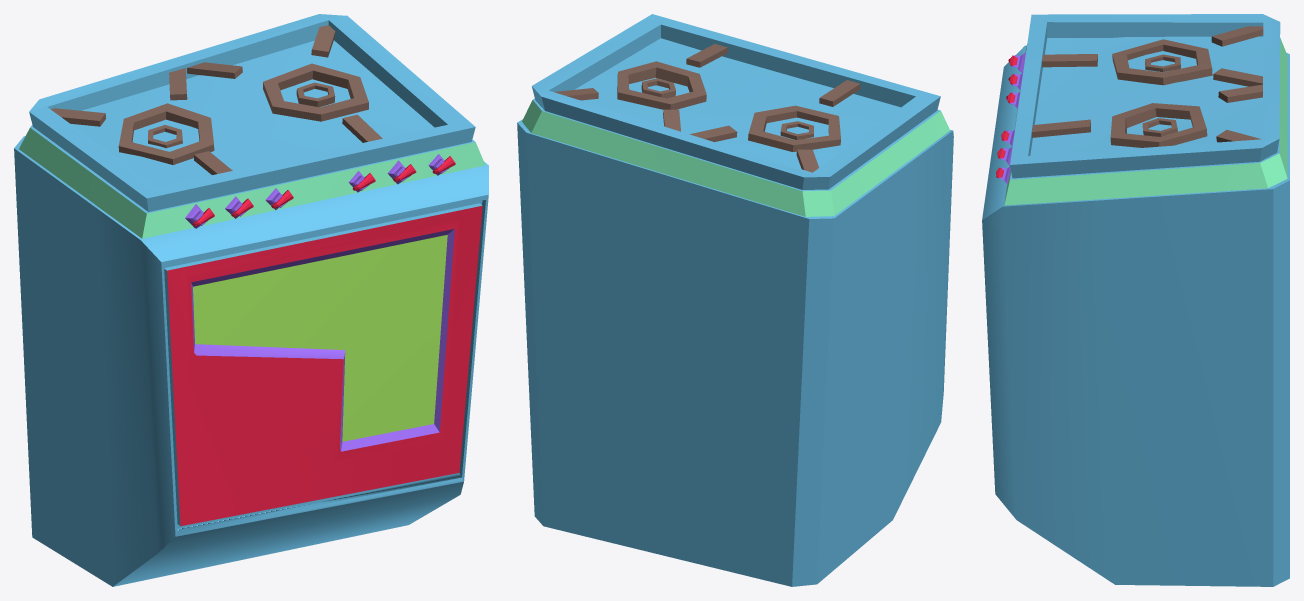
Rendered from Kitchen_Stove.fbx.
The picture shows the model from 3 angles, left to right: view 1: azimuth 30°, elevation 25°; view 2: azimuth 150°, elevation 25°; view 3: azimuth 270°, elevation 25°; orthographic projection. The views are drawn at different scales.
Parts seen in each view (by area): view 1: Stove; view 2: Stove; view 3: Stove.
Boxes of the visible parts, x1=… form: Stove: x1=14, y1=14, x2=488, y2=586; Stove: x1=517, y1=14, x2=953, y2=586; Stove: x1=982, y1=14, x2=1289, y2=586.
Size of the model in its own units: 102 by 131 by 82.16.
Materials: 1 (1 with a texture image).
